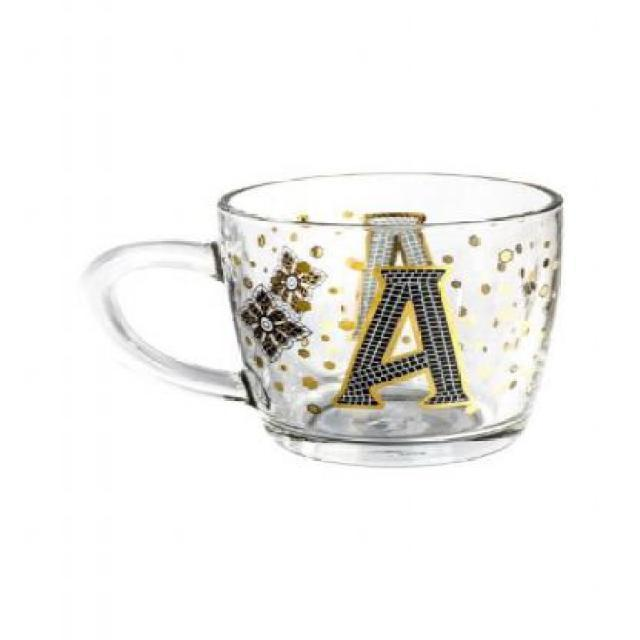taza: (74, 172, 562, 470)
